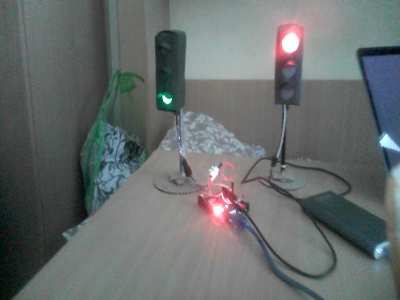trafficlight_green: (155, 31, 178, 110)
trafficlight_red: (275, 27, 304, 104)
